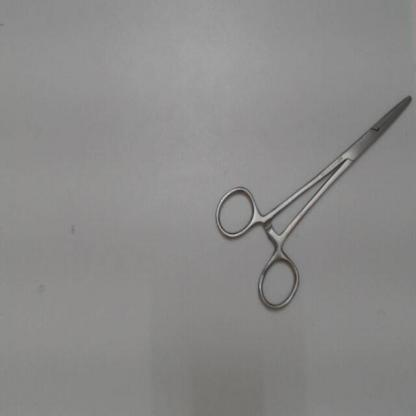Mayo Needle Holder: (207, 79, 414, 319)
